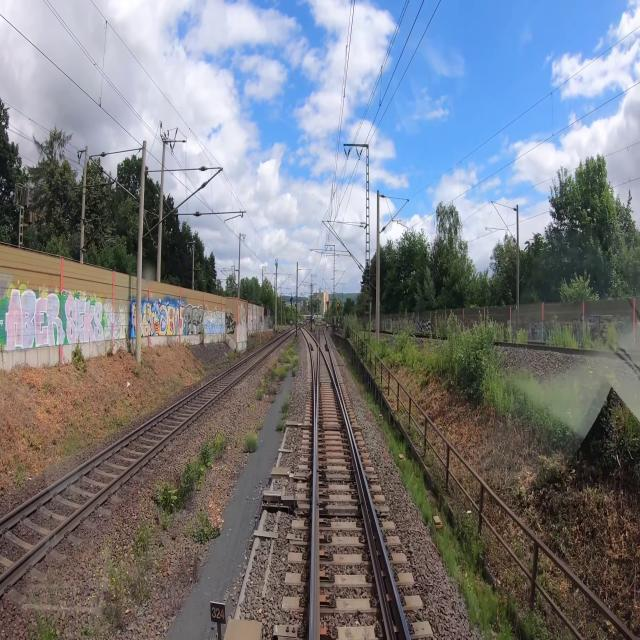Plant: (100, 429, 228, 611), (253, 344, 300, 402), (232, 402, 265, 458), (184, 502, 222, 548), (29, 597, 61, 638), (276, 399, 290, 434)
